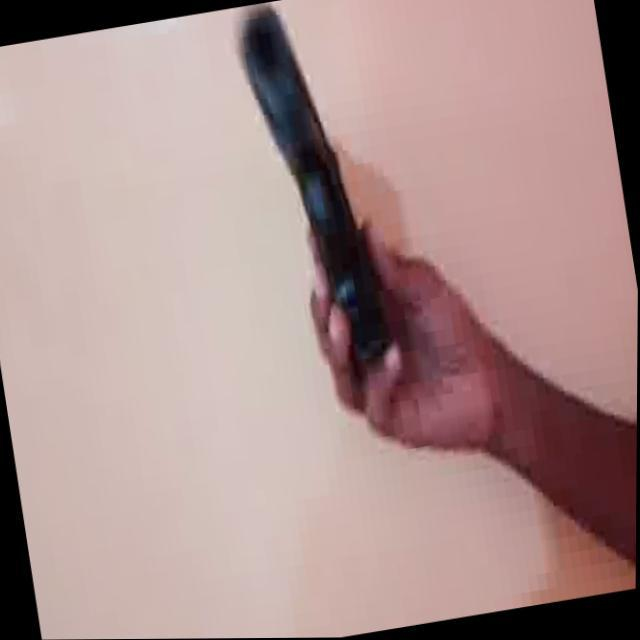weapon: (231, 0, 427, 408)
